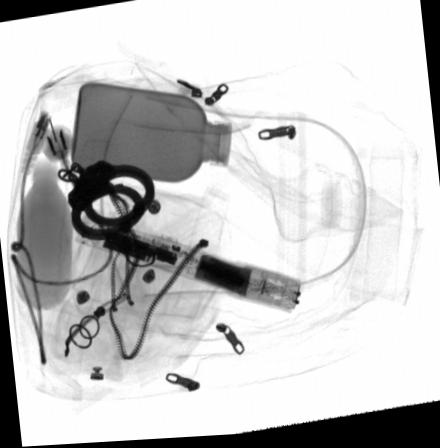Baton: (73, 211, 303, 318)
HandCuffs: (56, 158, 155, 242)
